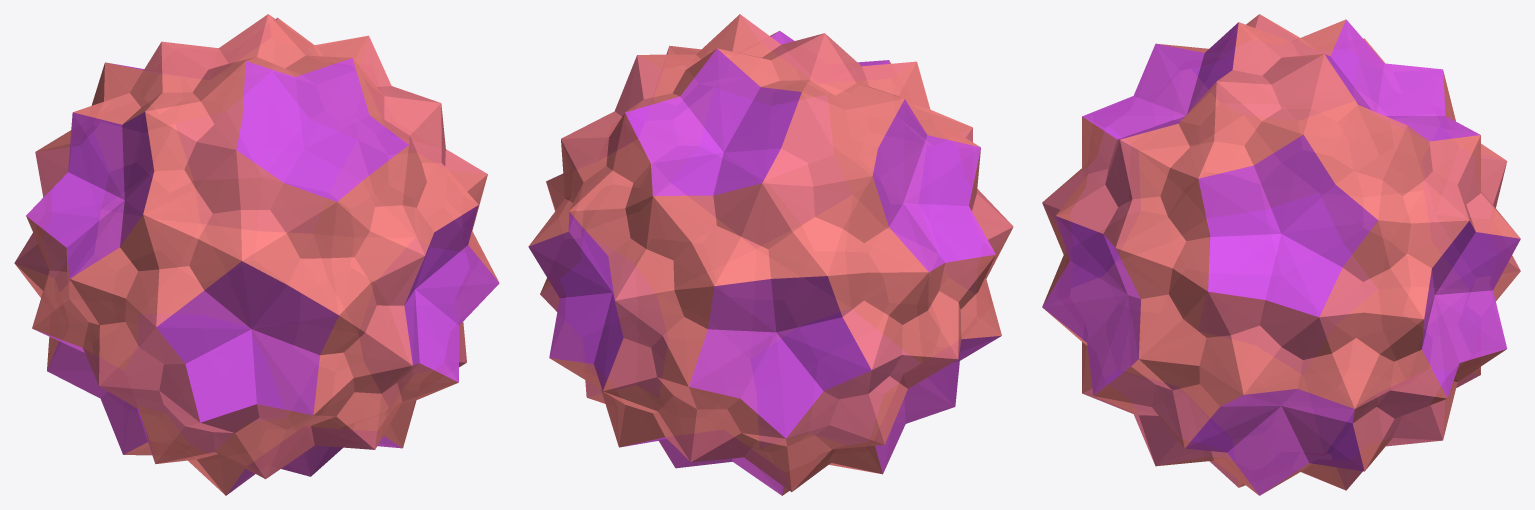
Rendered from Snub_Dodecahedron.obj.
The picture shows the model from 3 angles, left to right: view 1: azimuth 30°, elevation 25°; view 2: azimuth 150°, elevation 25°; view 3: azimuth 270°, elevation 25°; orthographic projection.
Size of the model in its own units: 4.19 by 4.19 by 4.19.
